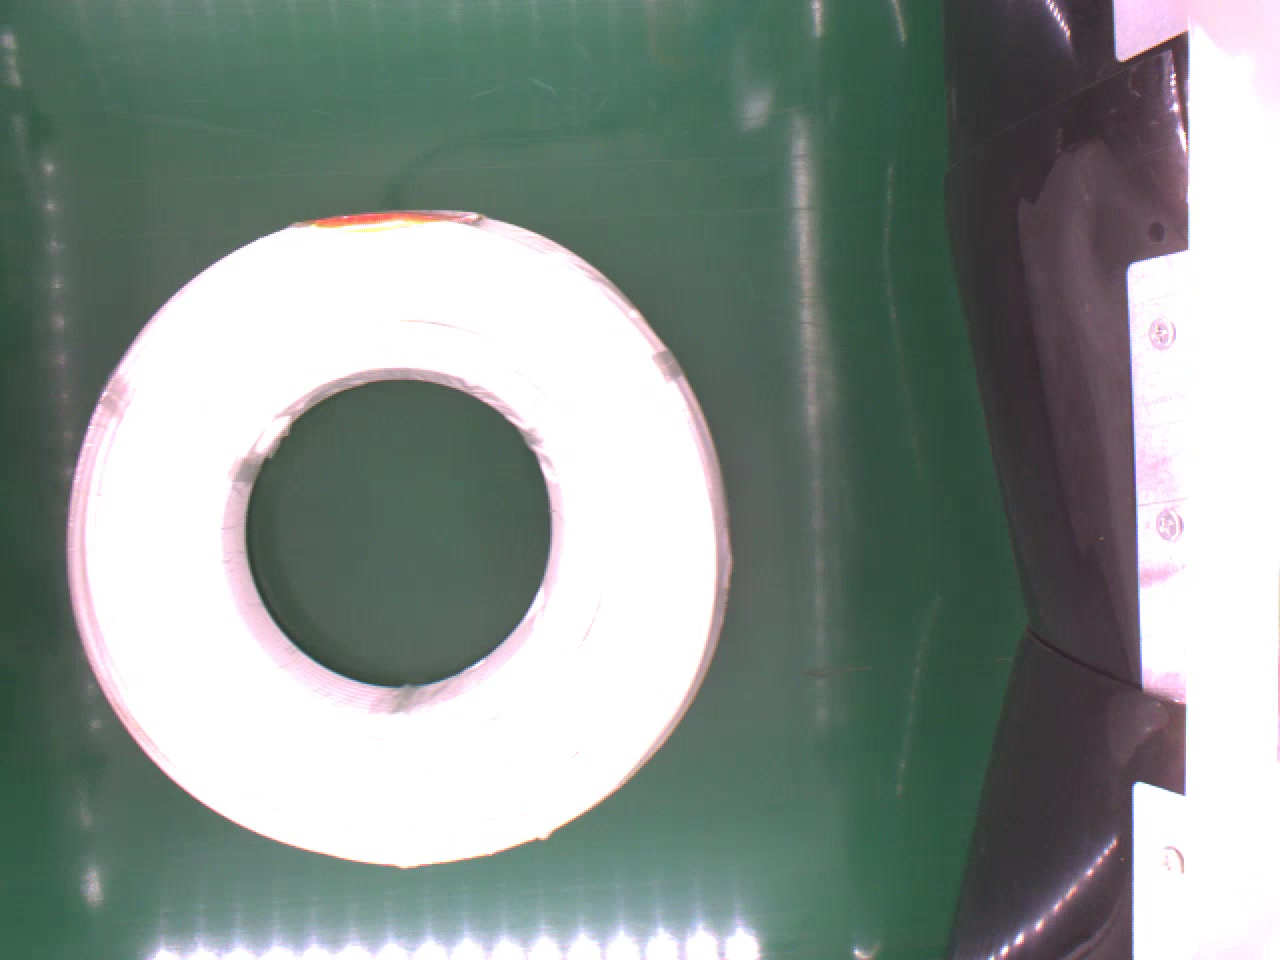white: (60, 202, 743, 873)
